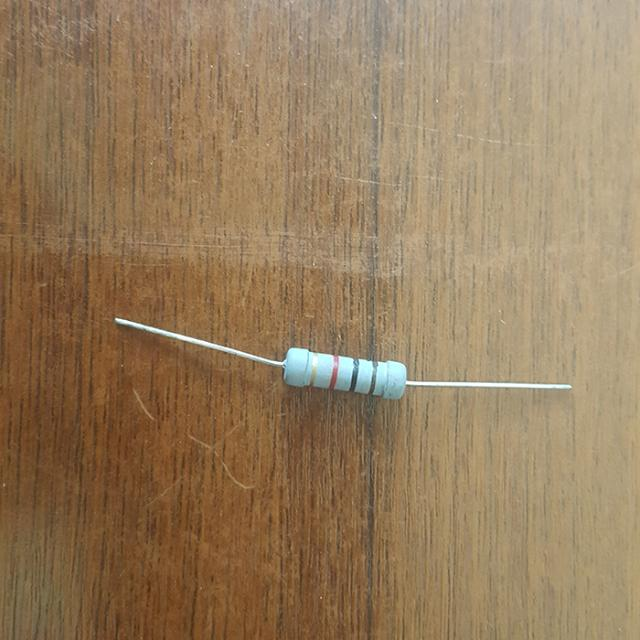black: (351, 358, 359, 389)
brown: (371, 362, 378, 392)
gold: (310, 354, 317, 385)
red: (330, 356, 340, 388)
resistor: (279, 337, 412, 412)
